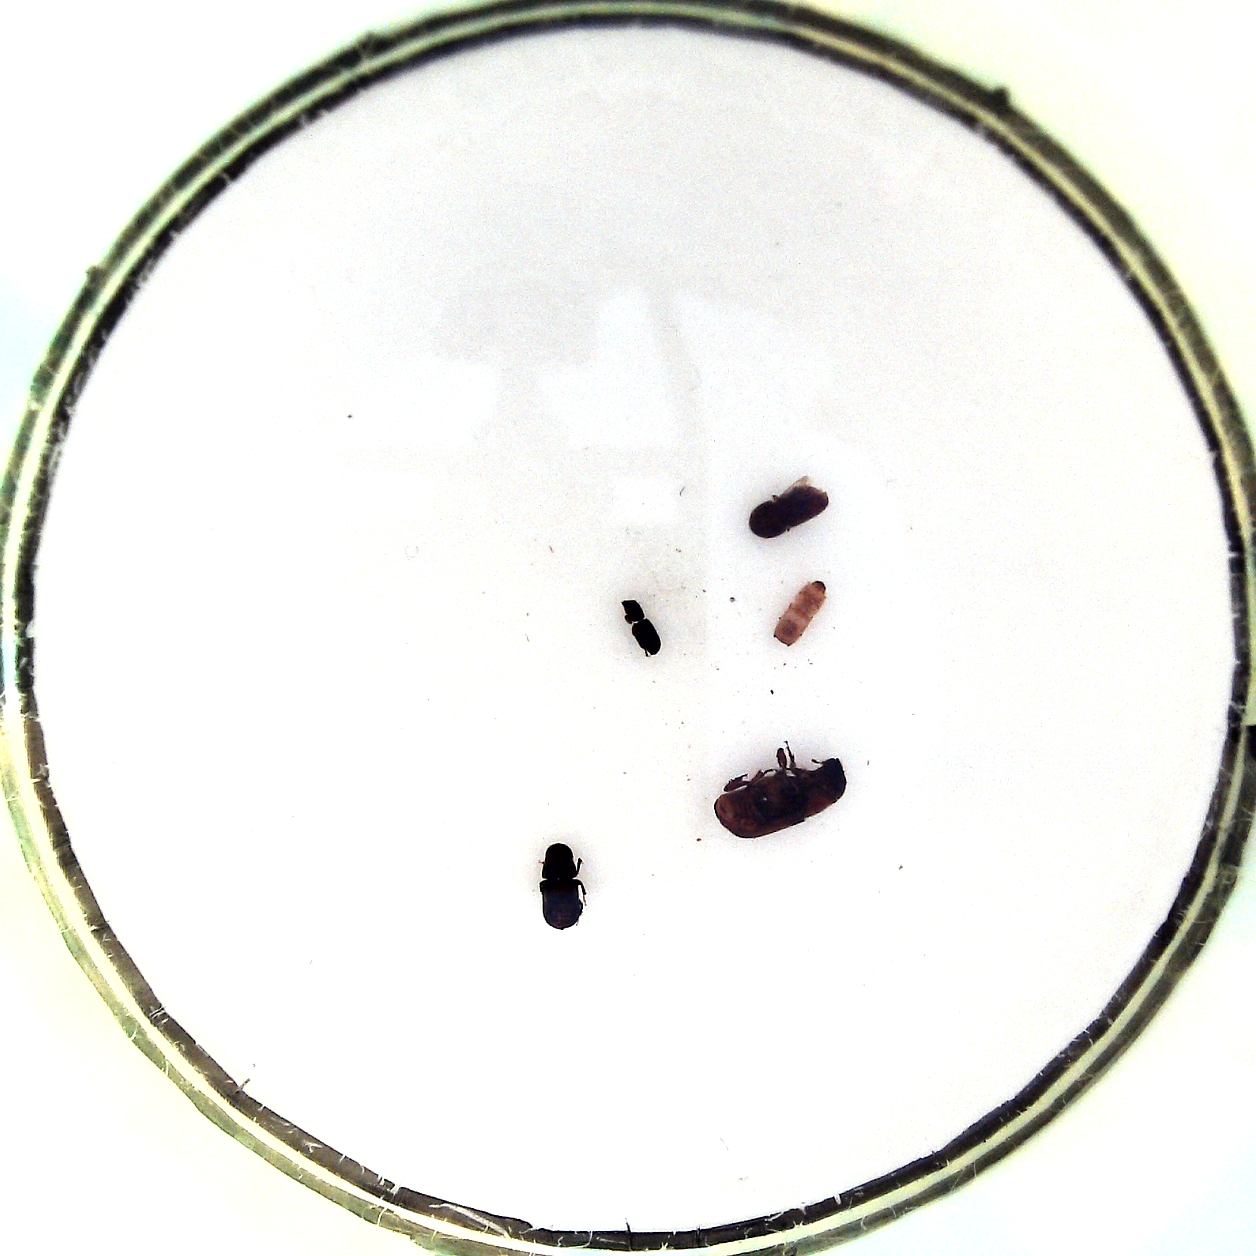Leconte: (709, 741, 851, 841)
Linnaeus: (745, 477, 835, 541)
acuminatus: (771, 577, 830, 648)
armandi: (536, 840, 589, 933)
coleoptera: (616, 592, 666, 659)
